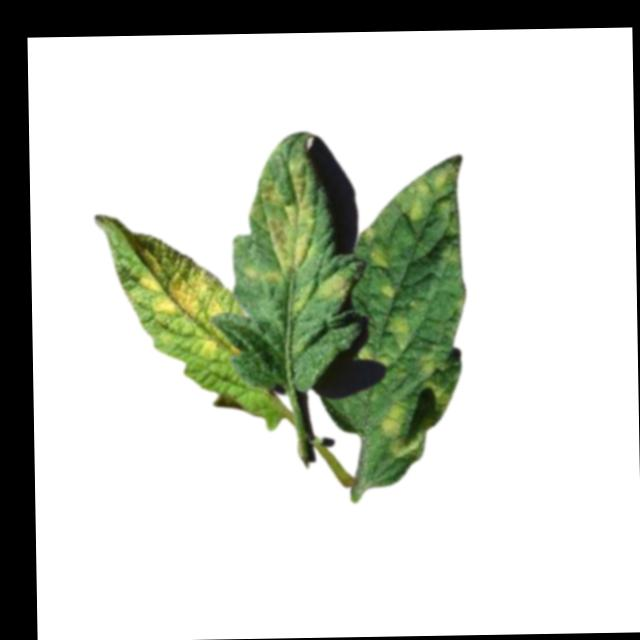Leaf_Mold: (136, 230, 242, 360), (241, 157, 318, 283), (396, 158, 469, 219), (383, 401, 430, 462), (420, 351, 455, 407), (316, 269, 354, 305), (363, 224, 390, 271), (386, 310, 416, 347)
